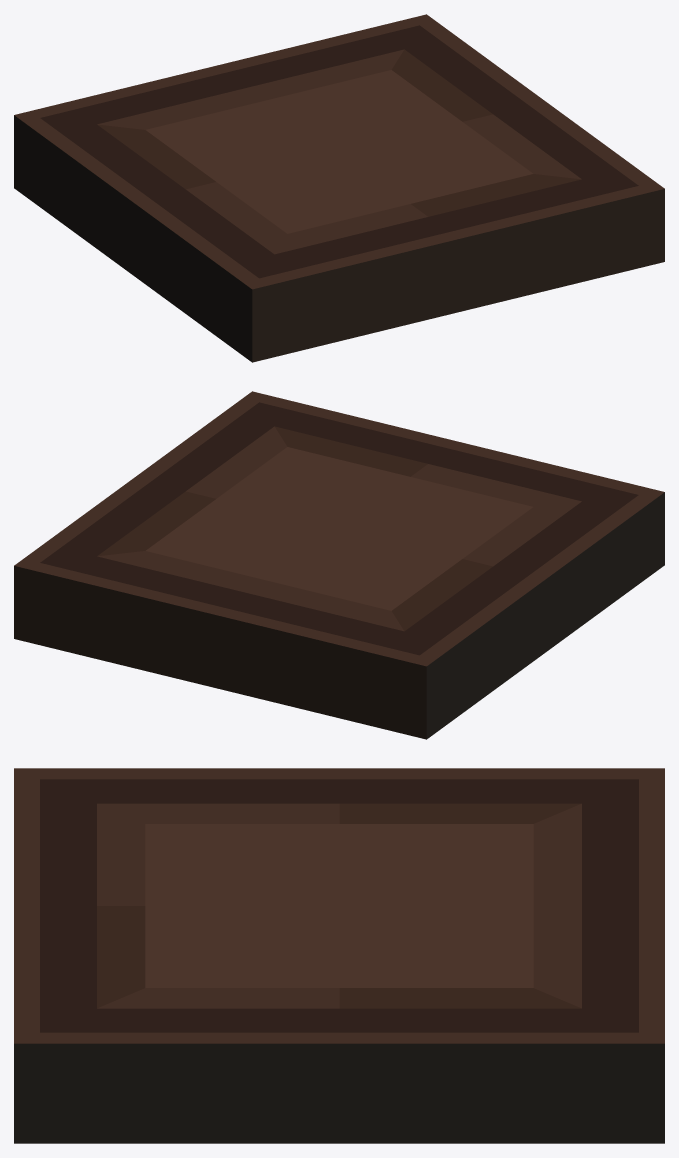
The model's file is Ability_FrumpyMud.fbx.
3 views of the same model, one above another, from view 1: azimuth 30°, elevation 25°; view 2: azimuth 150°, elevation 25°; view 3: azimuth 270°, elevation 25° (orthographic). The views are drawn at different scales.
Visible parts, largest first — view 1: Mud; view 2: Mud; view 3: Mud.
Boxes of the visible parts, x1,y1,x2,y2 form: Mud: [14, 14, 664, 362]; Mud: [14, 391, 664, 739]; Mud: [14, 768, 664, 1143].
Size of the model in its own units: 100 by 16.94 by 100.
